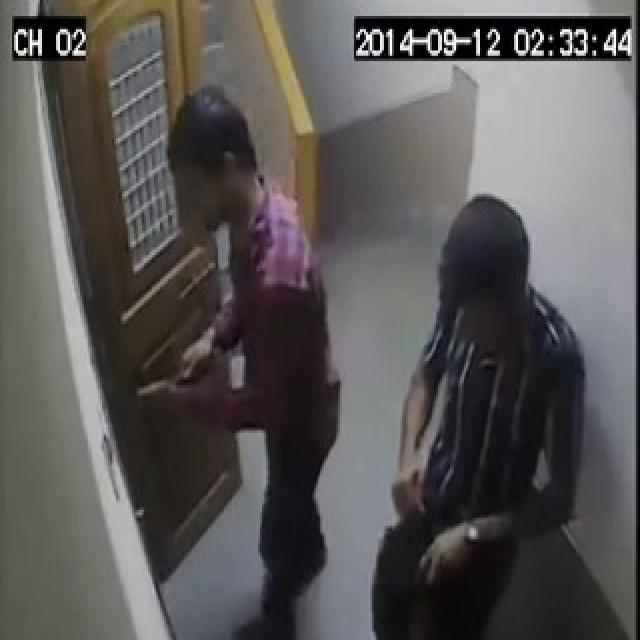burglary: (88, 257, 295, 519)
